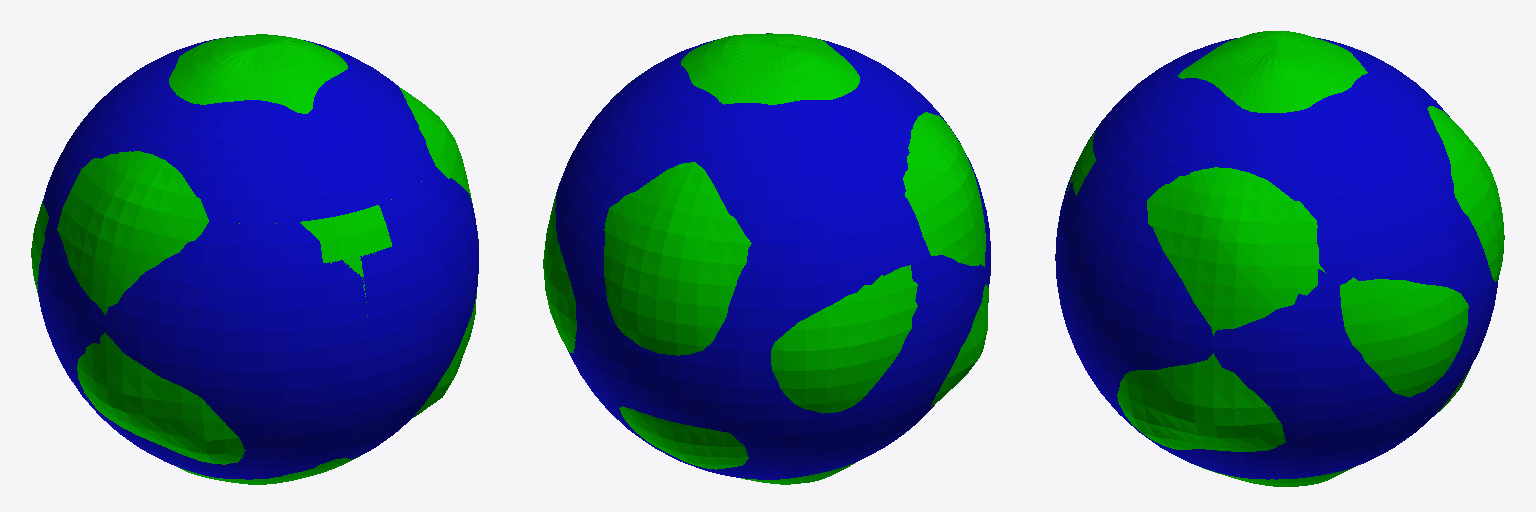
Rendered from AMAZINGPLANET.obj.
3 views of the same model, side by side, from view 1: azimuth 30°, elevation 25°; view 2: azimuth 150°, elevation 25°; view 3: azimuth 270°, elevation 25° (orthographic).
Visible parts, largest first — view 1: Planet2_Sphere; view 2: Planet2_Sphere; view 3: Planet2_Sphere.
Part boxes in pixels (x1,y1,x2,y2): Planet2_Sphere: (31, 34, 478, 484); Planet2_Sphere: (543, 33, 990, 484); Planet2_Sphere: (1055, 31, 1504, 486).
Size of the model in its own units: 13.05 by 13.61 by 13.19.